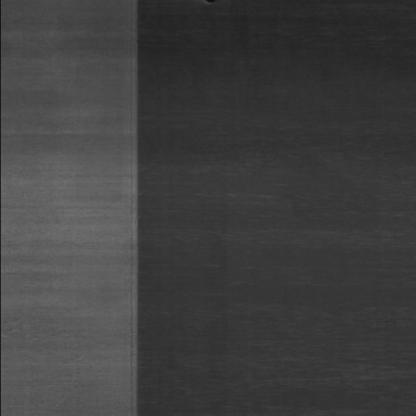punching_hole: (202, 0, 217, 4)
welding_line: (128, 0, 151, 416)
